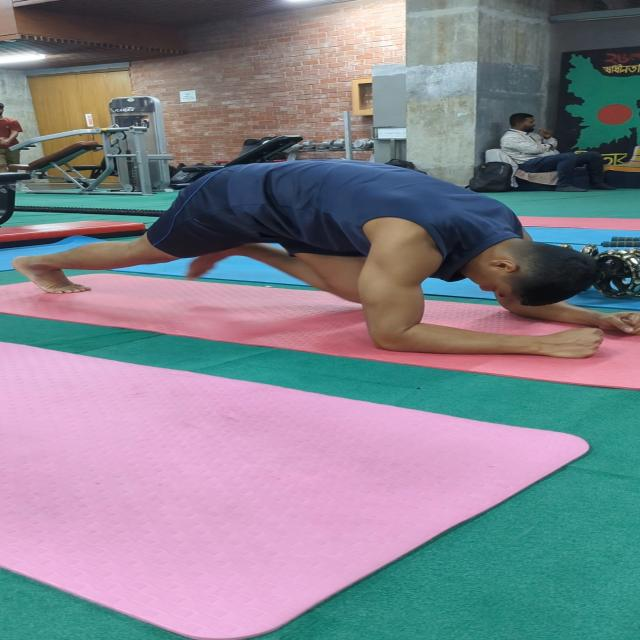Normal_MountainClimbers: (12, 134, 640, 356)
